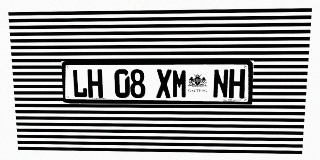0: (114, 69, 130, 98)
8: (130, 69, 145, 98)
H: (87, 69, 103, 98), (229, 69, 245, 98)
L: (72, 69, 88, 98)
M: (172, 69, 187, 98)
N: (213, 69, 229, 98)
X: (156, 69, 171, 98)
